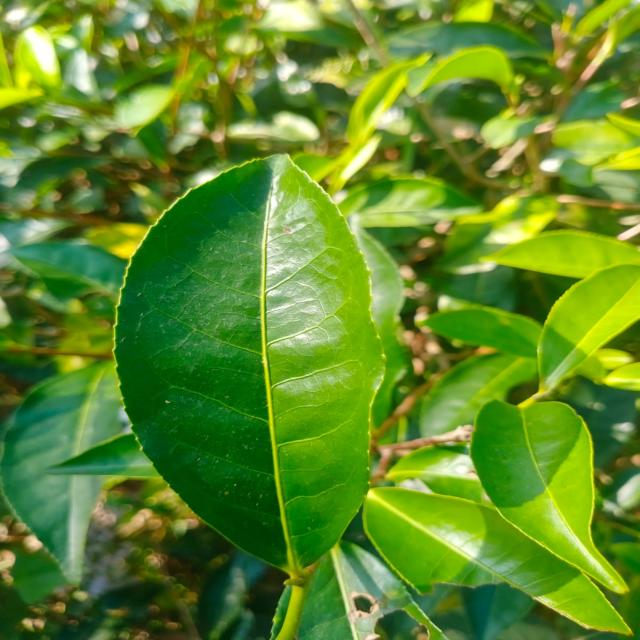Category D(7+ days, Not for Tea): (78, 133, 410, 583)
